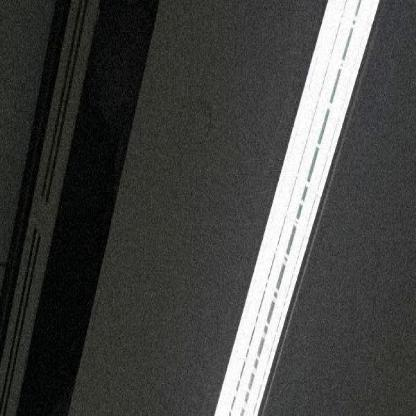light_on: (202, 0, 383, 415)
